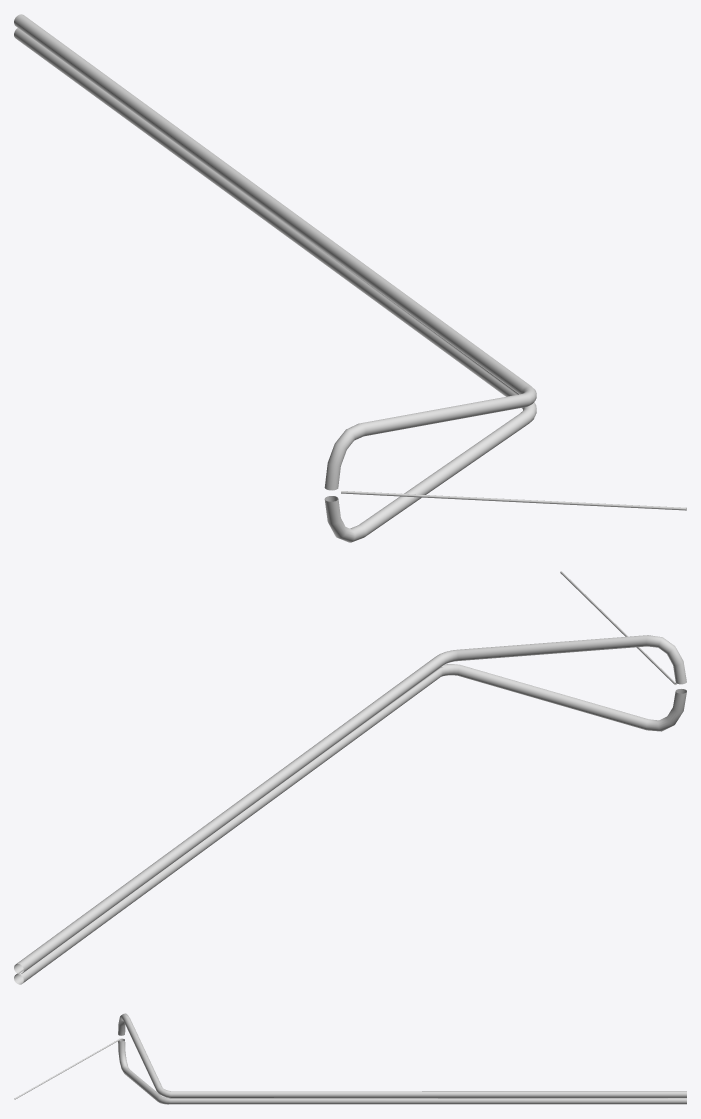
Rendered from Semaphor_x1037_y546.obj.
The picture shows the model from 3 angles, top to bottom: view 1: azimuth 30°, elevation 25°; view 2: azimuth 150°, elevation 25°; view 3: azimuth 270°, elevation 25°; orthographic projection. The views are drawn at different scales.
Parts seen in each view (by area): view 1: Ausleger_Semaphor_Ausleger.002, Abspannseil_Abspannseil.001; view 2: Ausleger_Semaphor_Ausleger.002; view 3: Ausleger_Semaphor_Ausleger.002, Abspannseil_Abspannseil.001.
Part boxes in pixels (x1,y1,x2,y2): Ausleger_Semaphor_Ausleger.002: [14, 14, 536, 542]; Abspannseil_Abspannseil.001: [341, 491, 686, 510]; Ausleger_Semaphor_Ausleger.002: [14, 635, 686, 984]; Ausleger_Semaphor_Ausleger.002: [118, 1013, 686, 1104]; Abspannseil_Abspannseil.001: [14, 1038, 120, 1099].
Bounding box in the file's own units: 1.07 × 0.4537 × 4.78.
Materials: 1 (1 with a texture image).
